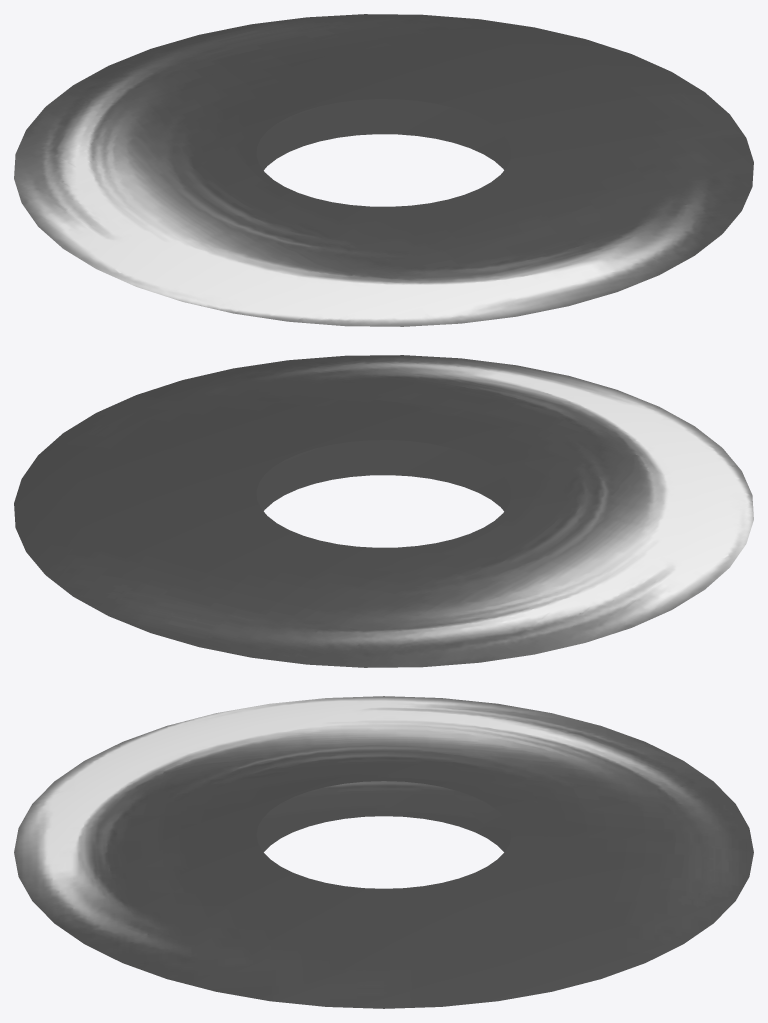
The model's file is Mesh_SwordTrail.fbx.
3 renders of one model, top to bottom at view 1: azimuth 30°, elevation 25°; view 2: azimuth 150°, elevation 25°; view 3: azimuth 270°, elevation 25°, orthographic.
Parts seen in each view (by area): view 1: Plane003; view 2: Plane003; view 3: Plane003.
Part boxes in pixels (bbox=[...]): Plane003: bbox=[14, 14, 753, 326]; Plane003: bbox=[14, 355, 753, 667]; Plane003: bbox=[14, 696, 753, 1008].
Size of the model in its own units: 139 by 7.26 by 139.
Materials: 1 (1 with a texture image).
